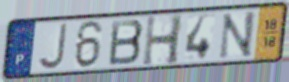4: (184, 13, 214, 62)
6: (73, 19, 105, 70)
B: (106, 18, 146, 68)
H: (140, 13, 185, 68)
J: (36, 22, 69, 71)
N: (217, 9, 257, 61)
